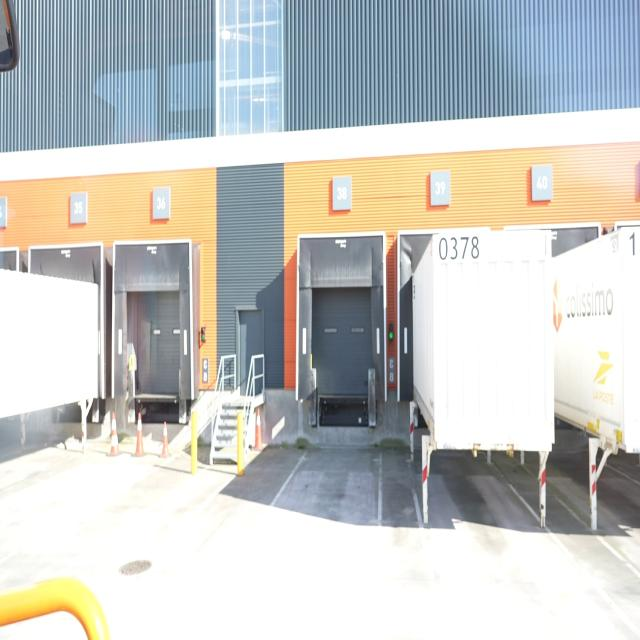Code: (436, 227, 481, 267)
